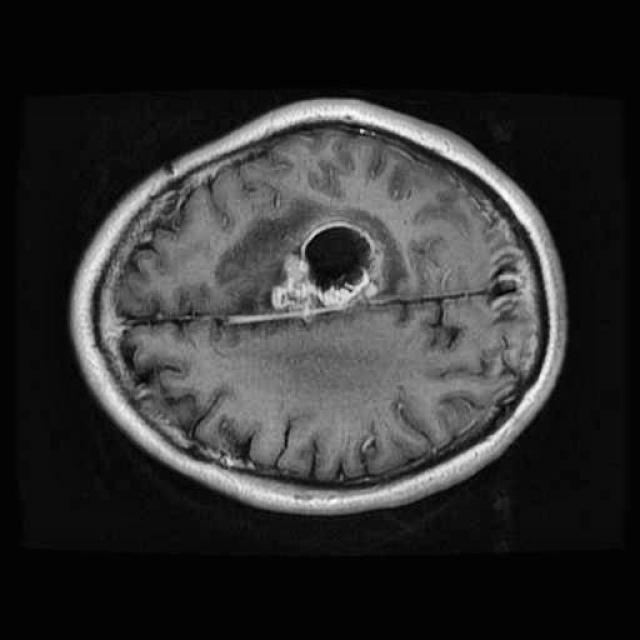Non-Tumor: (204, 181, 419, 334)
